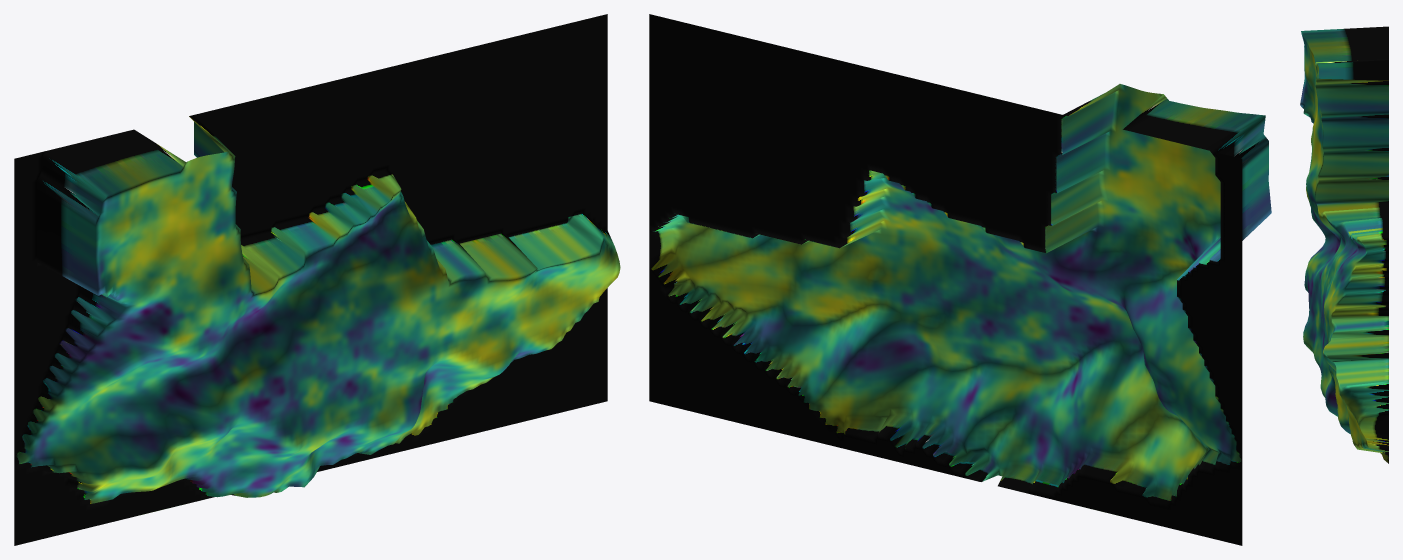
File: tirumala_terrain_corr.glb
3 views of the same model, side by side, from view 1: azimuth 30°, elevation 25°; view 2: azimuth 150°, elevation 25°; view 3: azimuth 270°, elevation 25° (orthographic). The views are drawn at different scales.
Parts seen in each view (by area): view 1: Tirumala_Terrain_Mesh; view 2: Tirumala_Terrain_Mesh; view 3: Tirumala_Terrain_Mesh.
Boxes of the visible parts, <box> form: Tirumala_Terrain_Mesh: <box>14,14,620,545</box>; Tirumala_Terrain_Mesh: <box>649,14,1271,545</box>; Tirumala_Terrain_Mesh: <box>1300,26,1388,463</box>.
Bounding box in the file's own units: 8720 × 5440 × 1438.
Materials: 1 (1 with a texture image).
